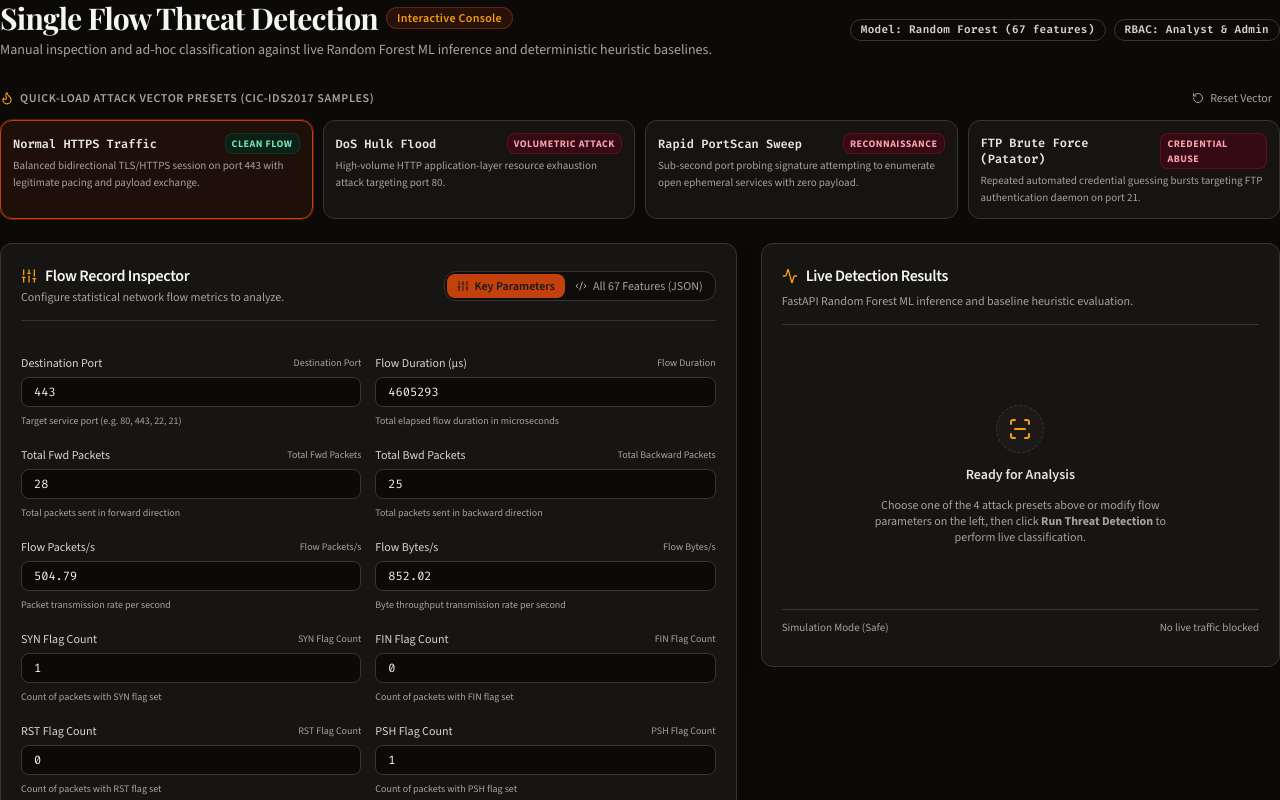
Test case: Flow Detection Feature (DetectPage) › switches between Key Parameters form and Raw JSON editor
Click the button "All 67 Features (JSON)".
click(639, 286)  # box top-left (565, 274), bottom-right (713, 298)
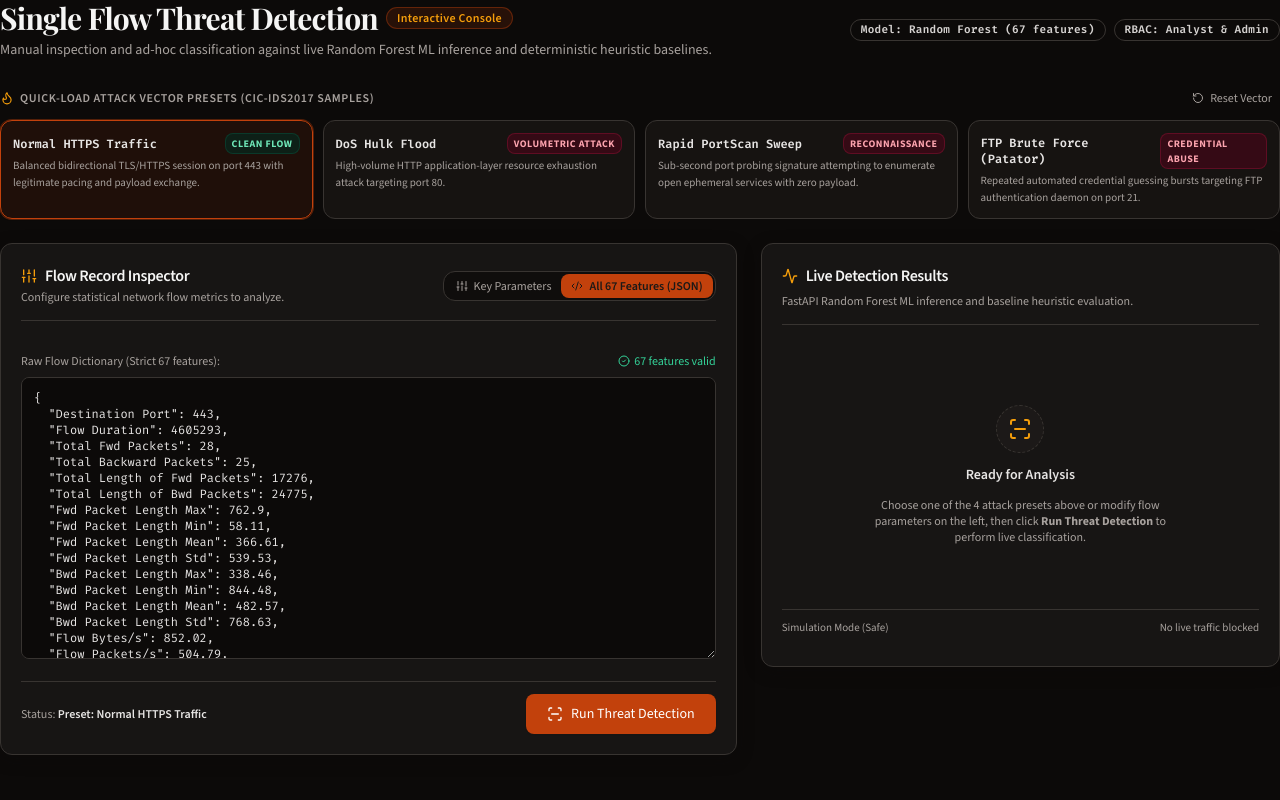
Result: the text box with placeholder "Paste or edit flow JSON with 67 features..." is shown at top-left (21, 376), bottom-right (716, 658)
Click the button "Key Parameters".
click(504, 286)  # box top-left (446, 274), bottom-right (562, 298)
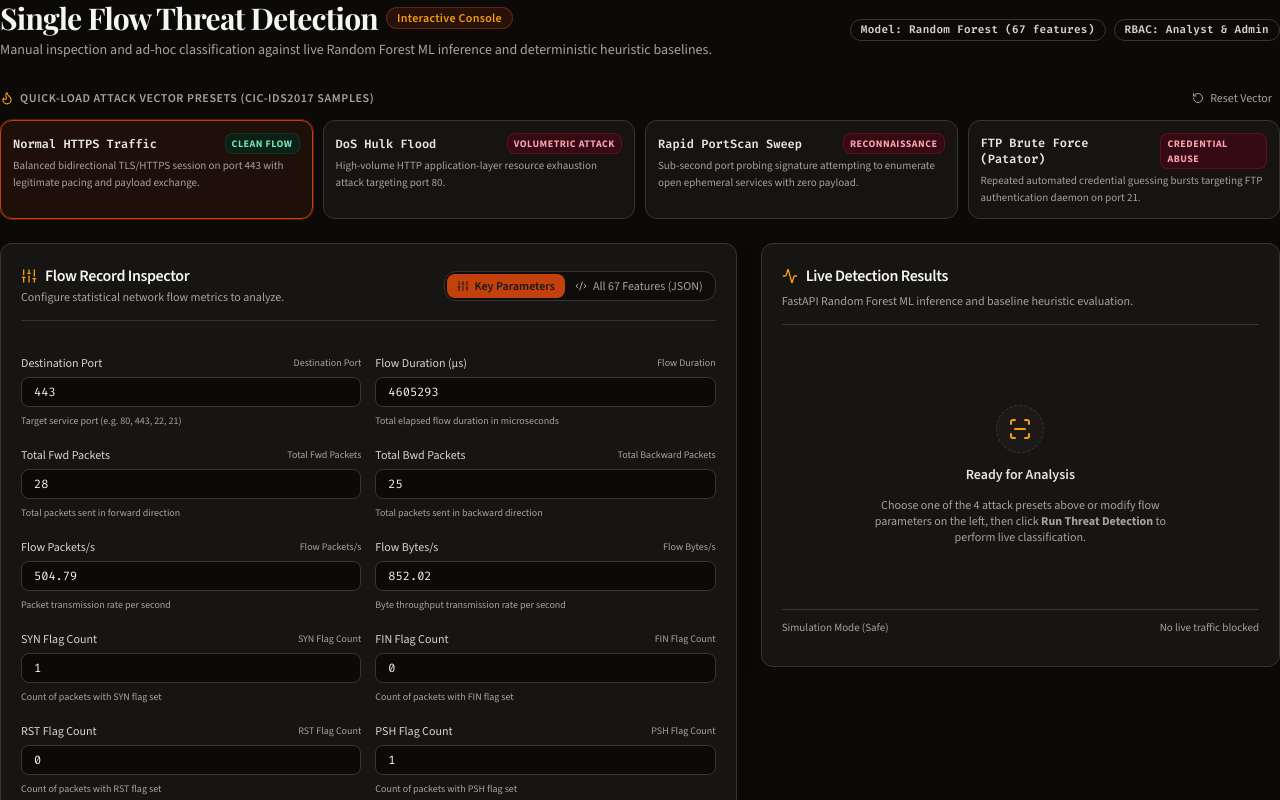
Result: the number field labelled "Destination Port" is shown at top-left (21, 376), bottom-right (361, 406)
